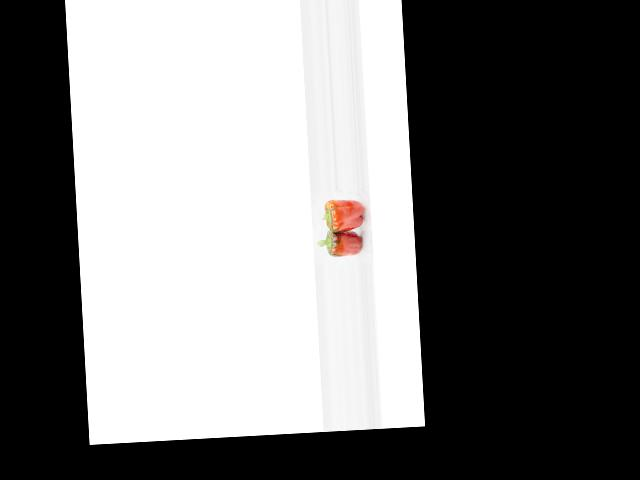bell_pepper: (318, 193, 366, 231)
